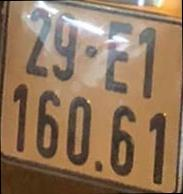.: (83, 44, 99, 59), (93, 161, 104, 174)
0: (66, 97, 94, 165)
1: (138, 24, 158, 101), (10, 84, 30, 154), (148, 114, 167, 181)
2: (27, 6, 52, 79)
6: (108, 107, 139, 176), (36, 90, 60, 159)
9: (53, 13, 78, 84)
E: (103, 18, 135, 97)
